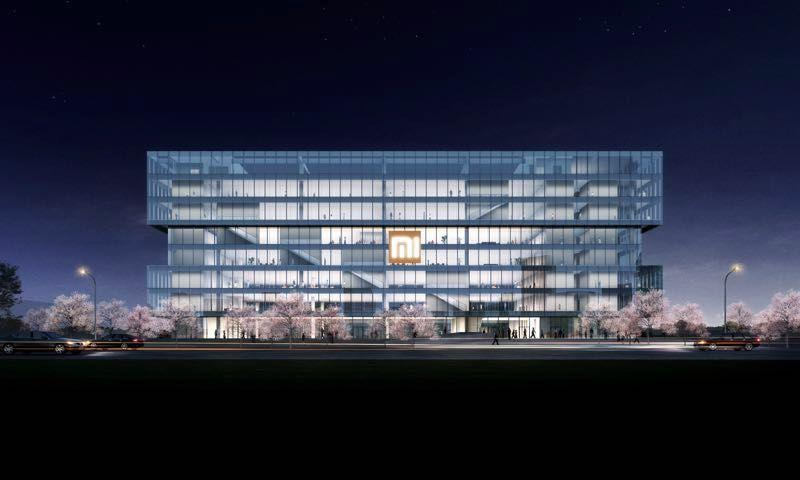buildings: (98, 124, 695, 333)
